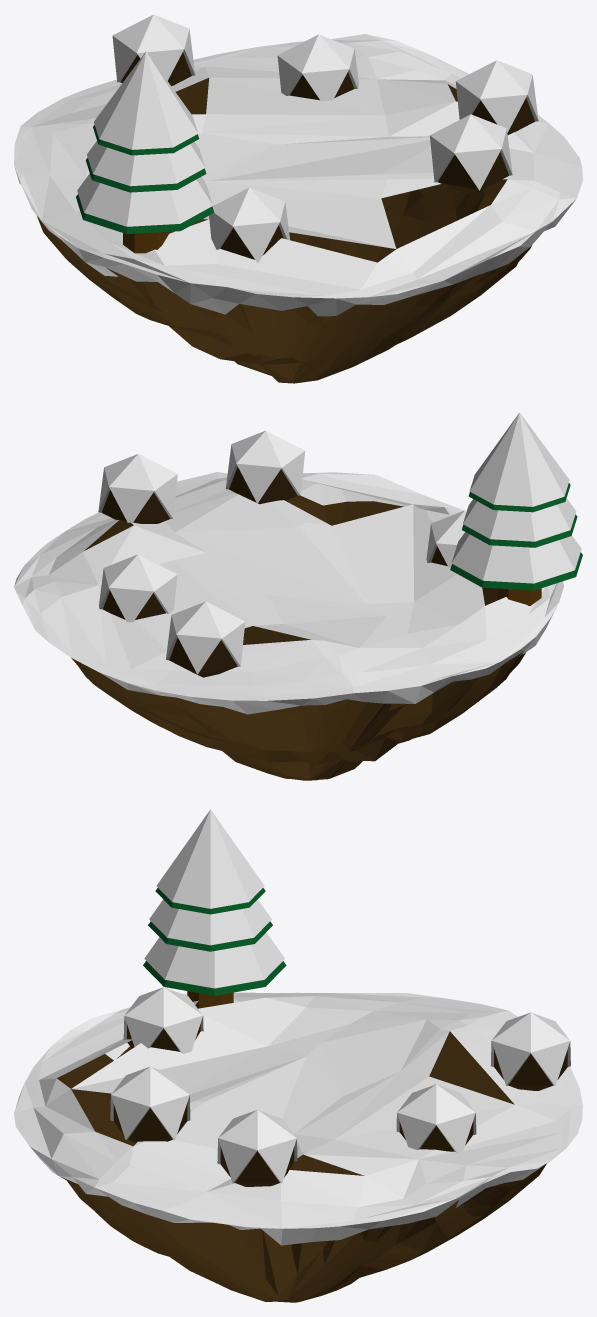
Rendered from island-winter.glb.
3 views of the same model, one above another, from view 1: azimuth 30°, elevation 25°; view 2: azimuth 150°, elevation 25°; view 3: azimuth 270°, elevation 25° (orthographic). The views are drawn at different scales.
Visible parts, largest first — view 1: Island, Cone.002, Cone.006, rock.icing, rock.icing.001, rock.icing.004, rock.icing.002, Cone.004, rock.icing.003, rock, Cone.005, Cone.003 (+6 smaller); view 2: Island, Cone.002, Cone.006, rock.icing, rock.icing.003, rock.icing.001, rock.icing.002, Cone.004, rock.icing.004, rock.003, rock, Cone.005 (+5 smaller); view 3: Island, Cone.002, Cone.006, rock.icing, rock.icing.003, rock.icing.001, rock.icing.002, rock.icing.004, Cone.004, Cone.005, rock.003, rock.001 (+3 smaller).
Part boxes in pixels (box(x1,y1,x2,y2)): Island: box(14, 34, 582, 383); Cone.002: box(94, 51, 198, 149); Cone.006: box(77, 173, 212, 226); rock.icing: box(429, 114, 512, 190); rock.icing.001: box(455, 60, 538, 132); rock.icing.004: box(209, 187, 289, 262); rock.icing.002: box(277, 34, 358, 101); Cone.004: box(87, 141, 205, 186); rock.icing.003: box(112, 14, 195, 82); rock: box(438, 152, 508, 195); Cone.005: box(76, 194, 214, 233); Cone.003: box(85, 157, 206, 192); Island: box(14, 472, 563, 780); Cone.002: box(469, 412, 569, 506); Cone.006: box(451, 532, 581, 583); rock.icing: box(225, 430, 305, 503); rock.icing.003: box(166, 601, 245, 674); rock.icing.001: box(98, 454, 177, 522); rock.icing.002: box(99, 554, 177, 622); Cone.004: box(463, 498, 576, 541); rock.icing.004: box(426, 510, 466, 567); rock.003: box(169, 637, 237, 677); rock: box(229, 467, 297, 504); Cone.005: box(450, 552, 582, 590); Island: box(14, 992, 582, 1302); Cone.002: box(156, 809, 264, 908); Cone.006: box(144, 932, 284, 988); rock.icing: box(110, 1066, 190, 1139); rock.icing.003: box(491, 1012, 570, 1085); rock.icing.001: box(217, 1110, 297, 1183); rock.icing.002: box(396, 1084, 476, 1152); rock.icing.004: box(123, 987, 203, 1053); Cone.004: box(149, 899, 271, 945); Cone.005: box(143, 961, 286, 995); rock.003: box(494, 1049, 567, 1090); rock.001: box(220, 1147, 294, 1186).
Bounding box in the file's own units: 3.98 × 3.05 × 3.92.
